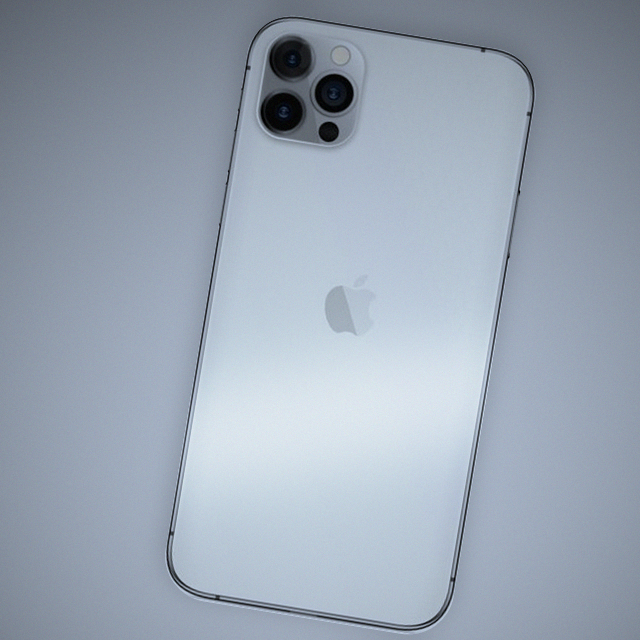iphone_12pro_silver: (148, 11, 541, 639), (241, 17, 377, 153)
